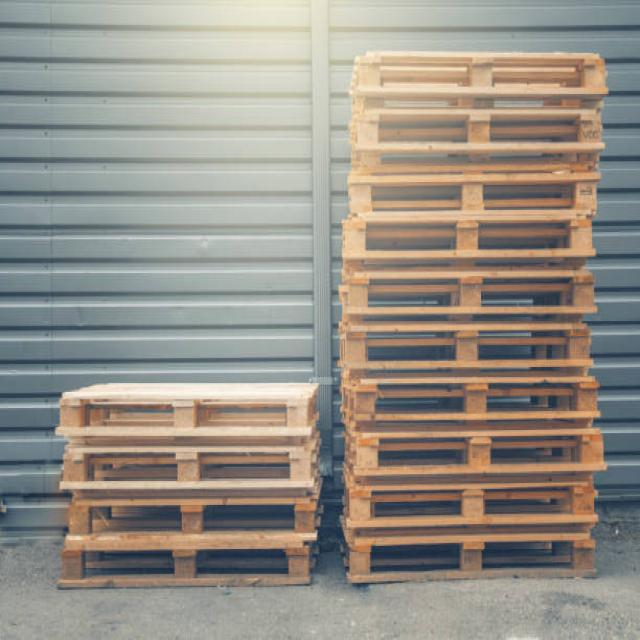Wooden-Pallets: (52, 484, 316, 542), (53, 384, 314, 442), (345, 47, 610, 100), (346, 102, 604, 156), (52, 440, 318, 492), (52, 542, 316, 590), (345, 540, 603, 589), (344, 377, 603, 424), (340, 173, 602, 216), (348, 433, 607, 476), (337, 216, 601, 258), (339, 273, 596, 316), (345, 483, 605, 523), (339, 323, 591, 364)
